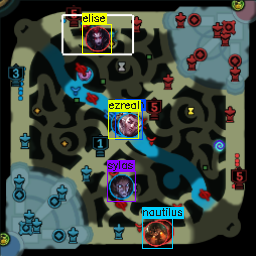elise: (86, 26, 110, 51)
ezreal: (112, 113, 135, 134)
missfortune: (148, 218, 174, 242)
nautilus: (144, 220, 168, 245)
rakan: (119, 112, 142, 136)
sylas: (109, 174, 133, 199)
